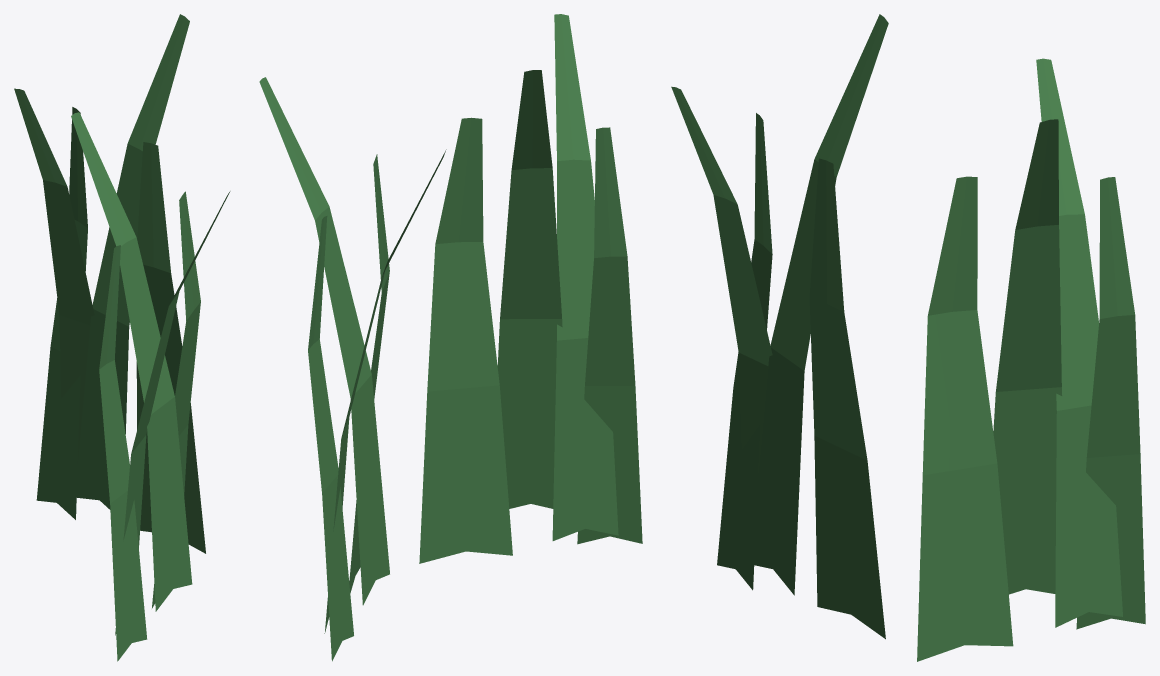
File: low poly grass 1.fbx
3 renders of one model, left to right at view 1: azimuth 30°, elevation 25°; view 2: azimuth 150°, elevation 25°; view 3: azimuth 270°, elevation 25°, orthographic. The views are drawn at different scales.
Parts seen in each view (by area): view 1: Plane.035; view 2: Plane.035; view 3: Plane.035.
Part boxes in pixels (left/top/right/bottom): Plane.035: left=14, top=14, right=230, bottom=661; Plane.035: left=259, top=14, right=642, bottom=661; Plane.035: left=671, top=14, right=1145, bottom=661.
Bounding box in the file's own units: 31.88 × 69.43 × 52.89.
